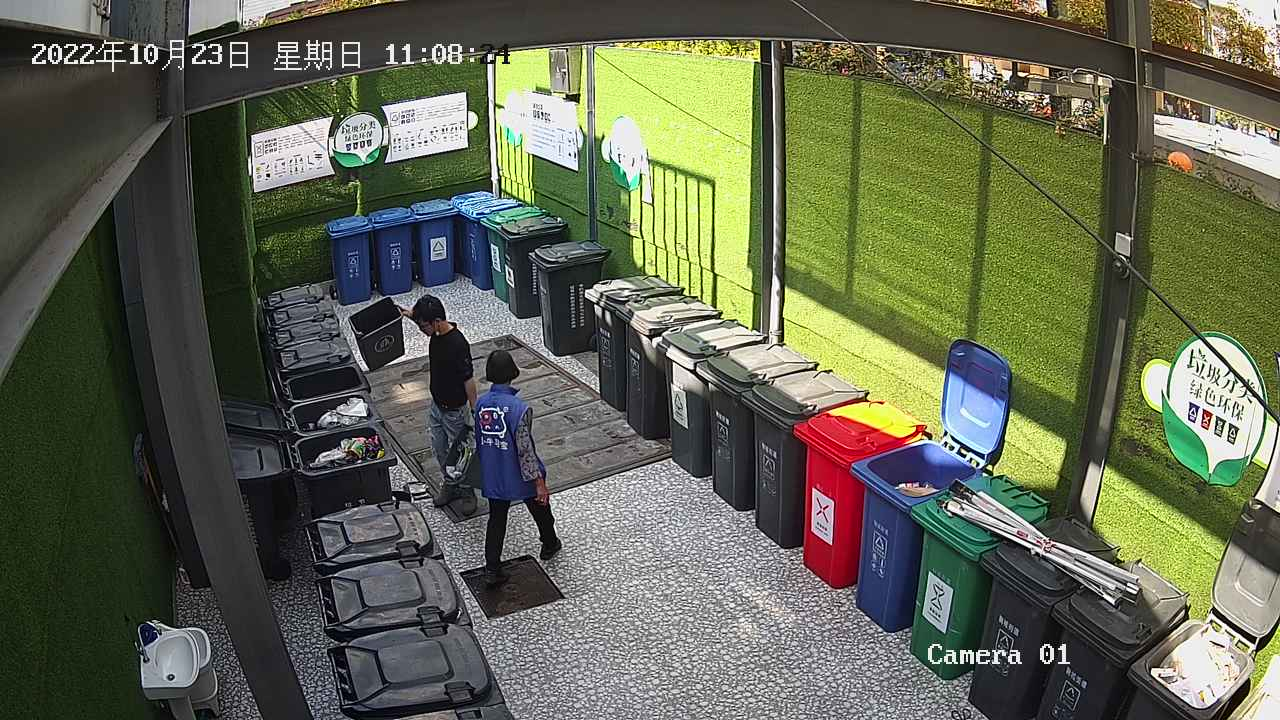person: (393, 292, 480, 499)
worker: (469, 346, 569, 589)
youtong: (345, 293, 408, 373)
